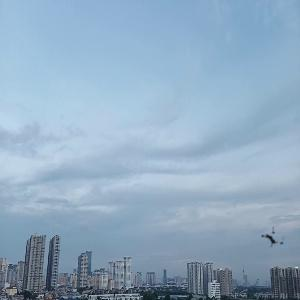drone: (253, 218, 295, 260)
